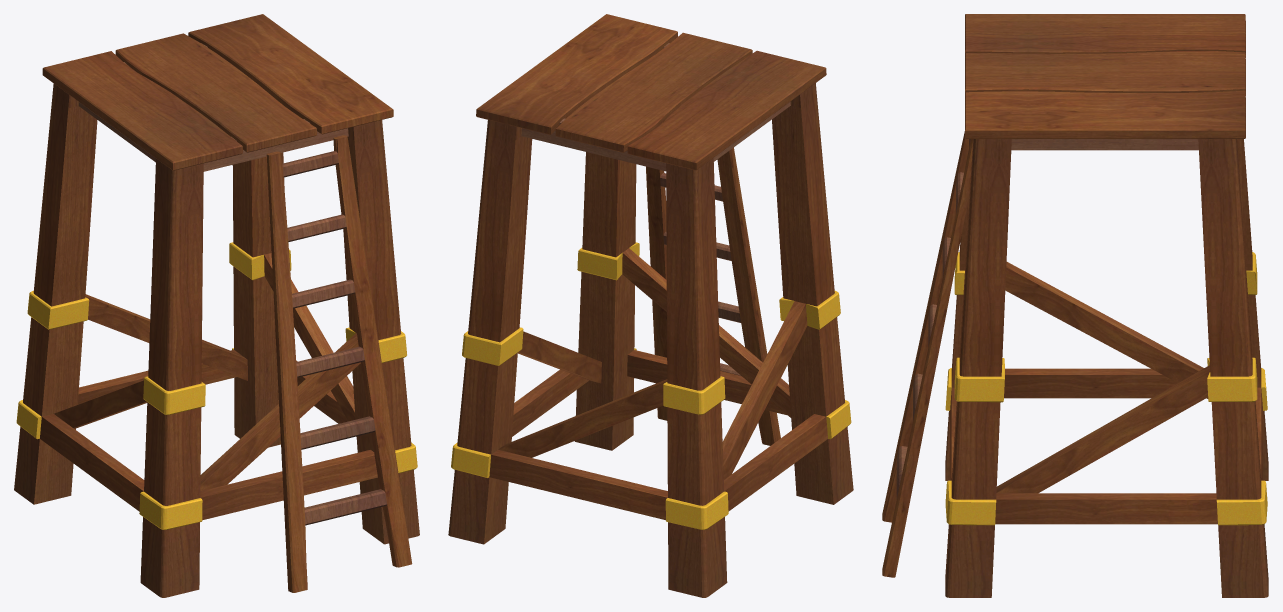
File: tower.dae
The picture shows the model from 3 angles, left to right: view 1: azimuth 30°, elevation 25°; view 2: azimuth 150°, elevation 25°; view 3: azimuth 270°, elevation 25°; orthographic projection. The views are drawn at different scales.
Parts seen in each view (by area): view 1: Box006; view 2: Box006; view 3: Box006.
Part boxes in pixels (x1,y1,x2,y2): Box006: (14,14,419,597); Box006: (448,14,853,597); Box006: (882,14,1268,597).
Size of the model in its own units: 4.16 by 4.97 by 6.5.
Materials: 1 (1 with a texture image).
